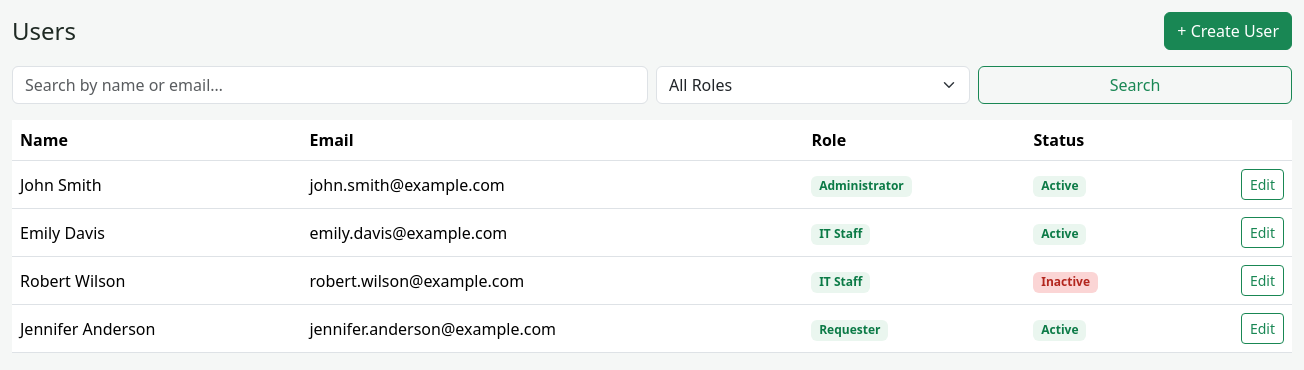
Test: UserManagement list (UI-06) › shows a no-results message when a search matches nobody
The width and height of the screenshot is (1304, 370).
Type "zzz" into the field named "Search users" at (330, 85), box 12,66 -> 648,104
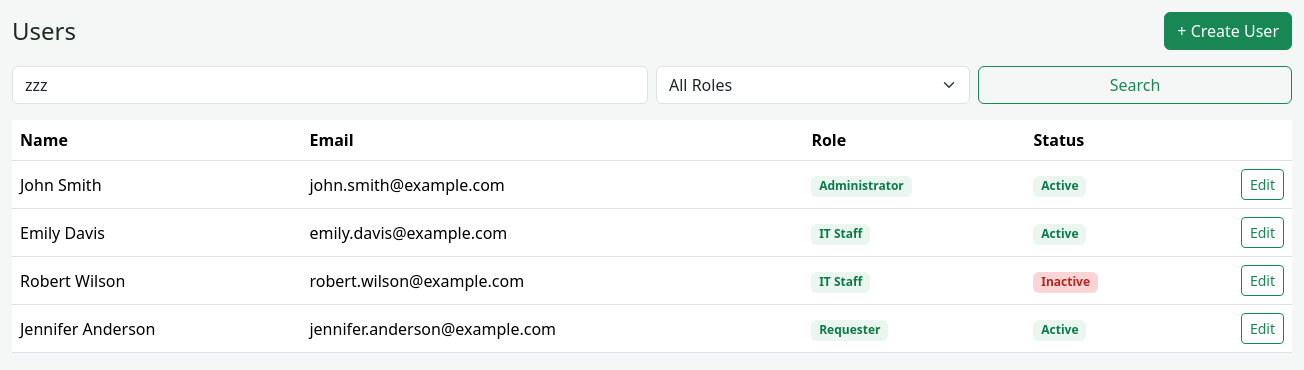
Click the button "Search" at (1135, 85), box 978,66 -> 1292,104
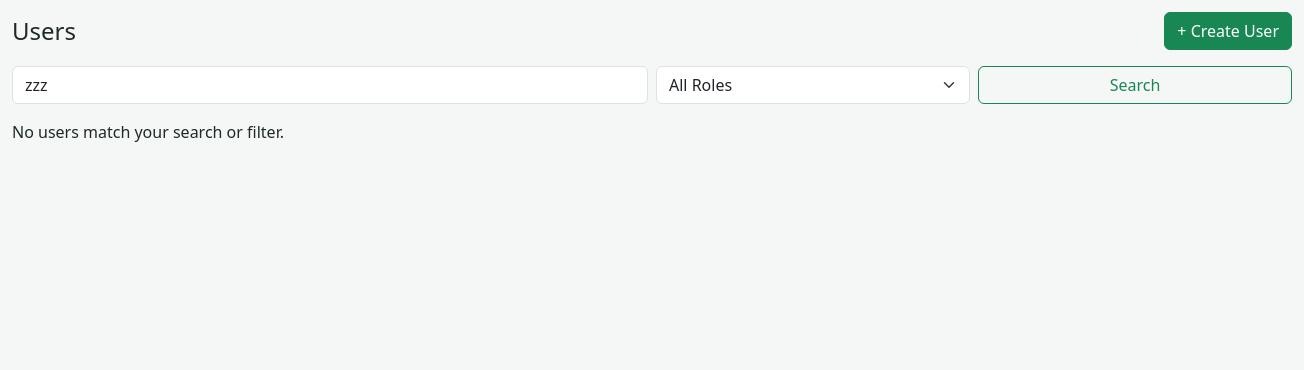
Expected: the text "No users match your search or filter." is shown, 12,121 -> 284,143
